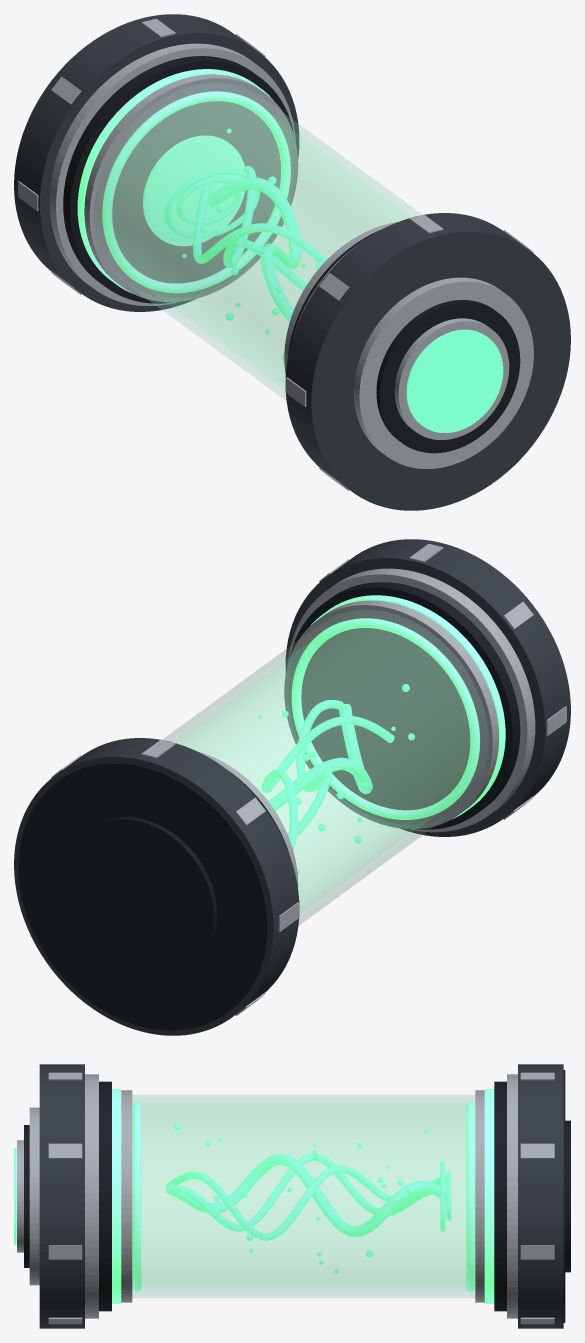
The model's file is QuickTopUp_3D.glb.
3 views of the same model, one above another, from view 1: azimuth 30°, elevation 25°; view 2: azimuth 150°, elevation 25°; view 3: azimuth 270°, elevation 25° (orthographic). The views are drawn at different scales.
Visible parts, largest first — view 1: Glass_Chamber, Top_Housing, Bottom_Glass_Seat, Bottom_Housing, Top_Rim, Top_Button_Glow, Top_Button_Ring, Emitter_Disc, Bottom_Steel_Band, Bottom_Black_Ring, Glow_Torus_0.215, Top_Button (+7 smaller); view 2: Glass_Chamber, Bottom_Foot, Top_Glass_Seat, Bottom_Base_Ring, Top_Housing, Bottom_Housing, Top_Steel_Band, Top_Black_Ring, Glow_Torus_0.985, Top_Glow_Ring, Energy_Ribbon_2, Energy_Ribbon_0 (+2 smaller); view 3: Glass_Chamber, Bottom_Housing, Top_Housing, Top_Steel_Band, Energy_Ribbon_0, Bottom_Black_Ring, Top_Black_Ring, Bottom_Steel_Band, Top_Glass_Seat, Energy_Ribbon_1, Energy_Ribbon_2, Bottom_Glow_Ring (+14 smaller).
Part boxes in pixels (x1,y1,x2,y2): Glass_Chamber: (94,83,421,400); Top_Housing: (285,213,570,510); Bottom_Glass_Seat: (84,74,298,302); Bottom_Housing: (14,14,299,311); Top_Rim: (354,277,533,468); Top_Button_Glow: (406,329,503,432); Top_Button_Ring: (376,300,520,453); Emitter_Disc: (143,135,244,246); Bottom_Steel_Band: (49,43,295,305); Bottom_Black_Ring: (63,56,294,303); Glow_Torus_0.215: (102,91,290,293); Top_Button: (394,318,509,439); Glass_Chamber: (163,610,487,925); Bottom_Foot: (18,763,267,1030); Top_Glass_Seat: (284,600,498,828); Bottom_Base_Ring: (65,817,217,979); Top_Housing: (285,539,570,836); Bottom_Housing: (14,738,299,1035); Top_Steel_Band: (288,568,535,832); Top_Black_Ring: (290,582,520,829); Glow_Torus_0.985: (291,618,480,819); Top_Glow_Ring: (311,595,505,818); Energy_Ribbon_2: (261,716,394,850); Energy_Ribbon_0: (268,703,372,810); Glass_Chamber: (132,1095,474,1297); Bottom_Housing: (518,1064,563,1328); Top_Housing: (39,1064,84,1328); Top_Steel_Band: (85,1074,98,1318); Energy_Ribbon_0: (165,1154,446,1236); Bottom_Black_Ring: (494,1081,506,1311); Top_Black_Ring: (99,1081,111,1311); Bottom_Steel_Band: (507,1074,517,1318); Top_Glass_Seat: (121,1090,132,1302); Energy_Ribbon_1: (167,1153,447,1231); Energy_Ribbon_2: (166,1165,446,1240); Bottom_Glow_Ring: (484,1089,494,1303).
Size of the model in its own units: 0.615 by 0.615 by 1.29.
